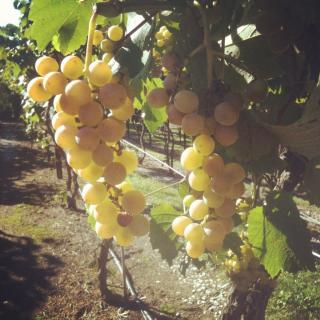Grape: (147, 26, 266, 259), (27, 24, 150, 247), (253, 0, 320, 53), (227, 237, 277, 292)
